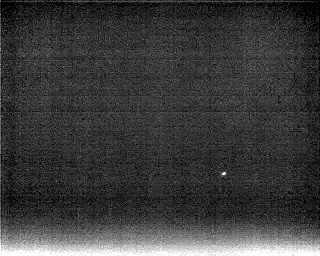BIRD: (219, 169, 228, 179)
